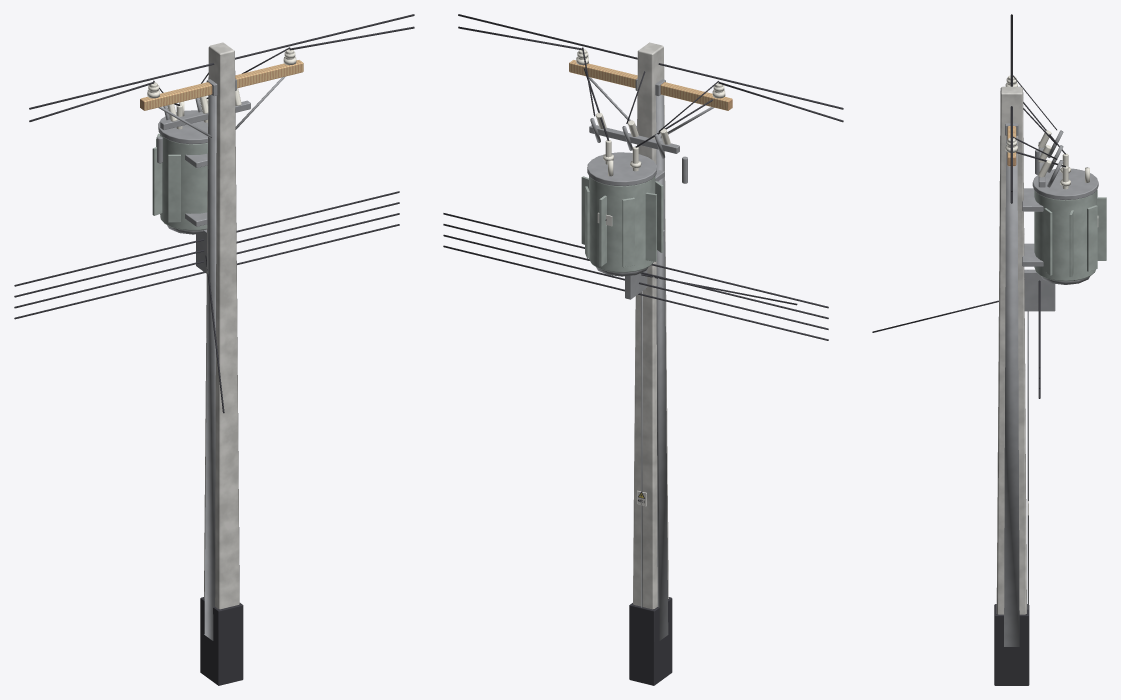
Rendered from Energia_UtilityPole.fbx.
3 views of the same model, side by side, from view 1: azimuth 30°, elevation 25°; view 2: azimuth 150°, elevation 25°; view 3: azimuth 270°, elevation 25° (orthographic). The views are drawn at different scales.
Visible parts, largest first — view 1: Energia_UtilityPole; view 2: Energia_UtilityPole; view 3: Energia_UtilityPole.
Boxes of the visible parts, x1,y1,x2,y2 form: Energia_UtilityPole: (14, 14, 414, 685); Energia_UtilityPole: (443, 14, 843, 685); Energia_UtilityPole: (872, 14, 1106, 685).
Size of the model in its own units: 4.8 by 7.5 by 2.69.
Materials: 1 (1 with a texture image).
